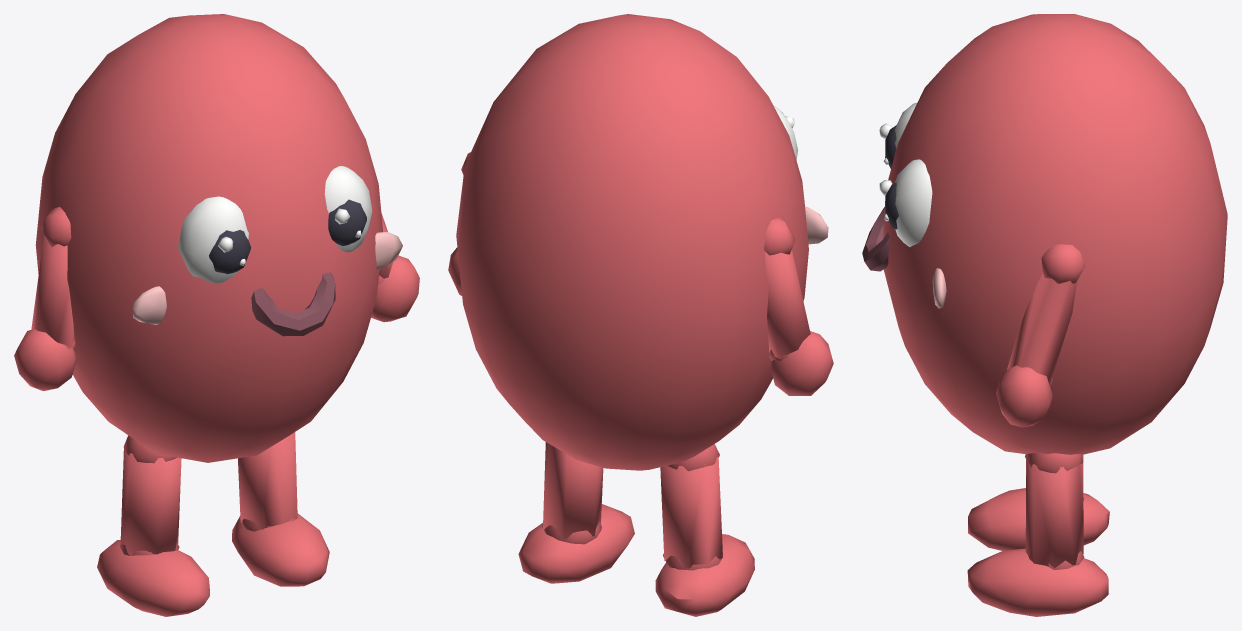
Rendered from Egg.fbx.
3 renders of one model, left to right at view 1: azimuth 30°, elevation 25°; view 2: azimuth 150°, elevation 25°; view 3: azimuth 270°, elevation 25°, orthographic. The views are drawn at different scales.
Visible parts, largest first — view 1: EX_Egg; view 2: EX_Egg; view 3: EX_Egg.
Part boxes in pixels (x1,y1,x2,y2): EX_Egg: [14, 14, 419, 616]; EX_Egg: [448, 14, 833, 616]; EX_Egg: [862, 14, 1227, 616].
Size of the model in its own units: 169 by 236 by 141.
